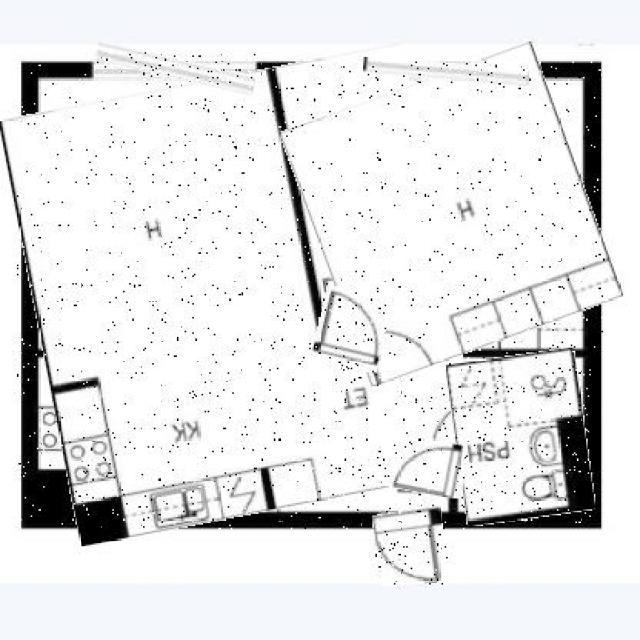door: (17, 62, 465, 529), (298, 60, 604, 368), (452, 351, 591, 523), (315, 288, 388, 369), (375, 509, 448, 585), (388, 436, 466, 496)
window: (94, 51, 255, 88), (363, 62, 529, 83)
